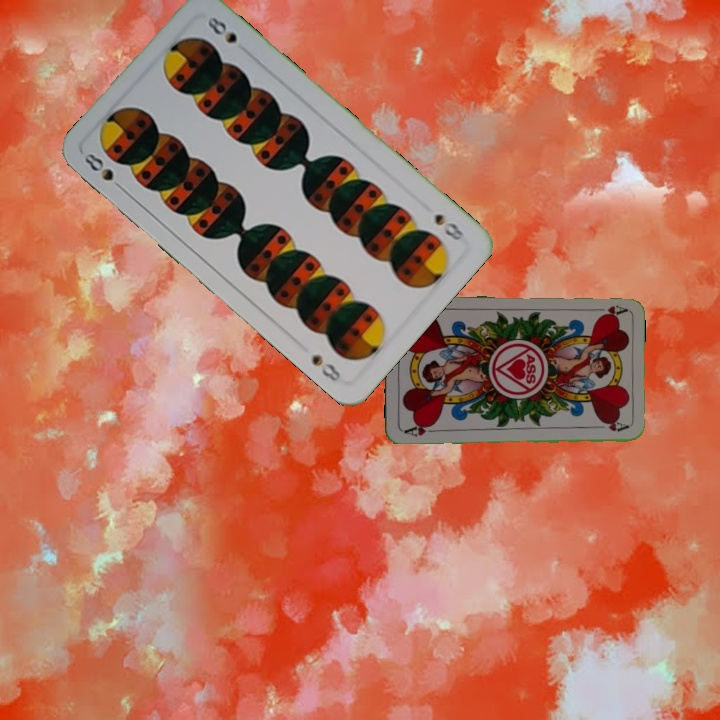HA: (400, 420, 440, 439), (588, 301, 629, 318)
S8: (80, 148, 116, 184), (430, 209, 467, 243)
